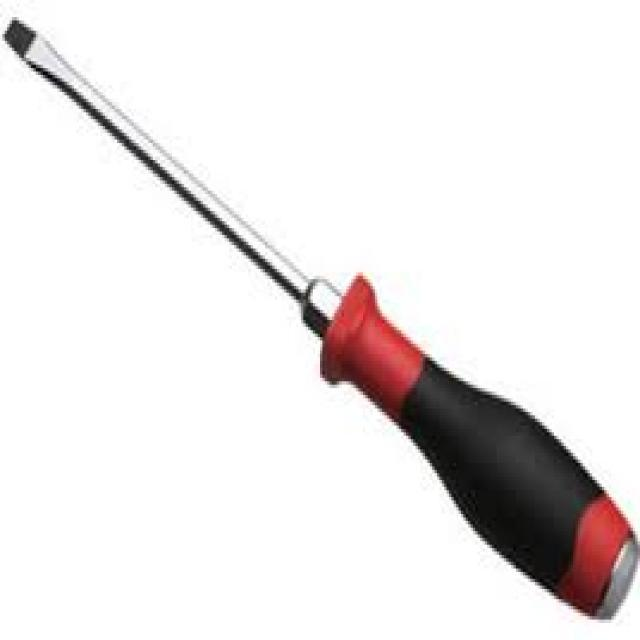screwdriver: (1, 16, 639, 622)
